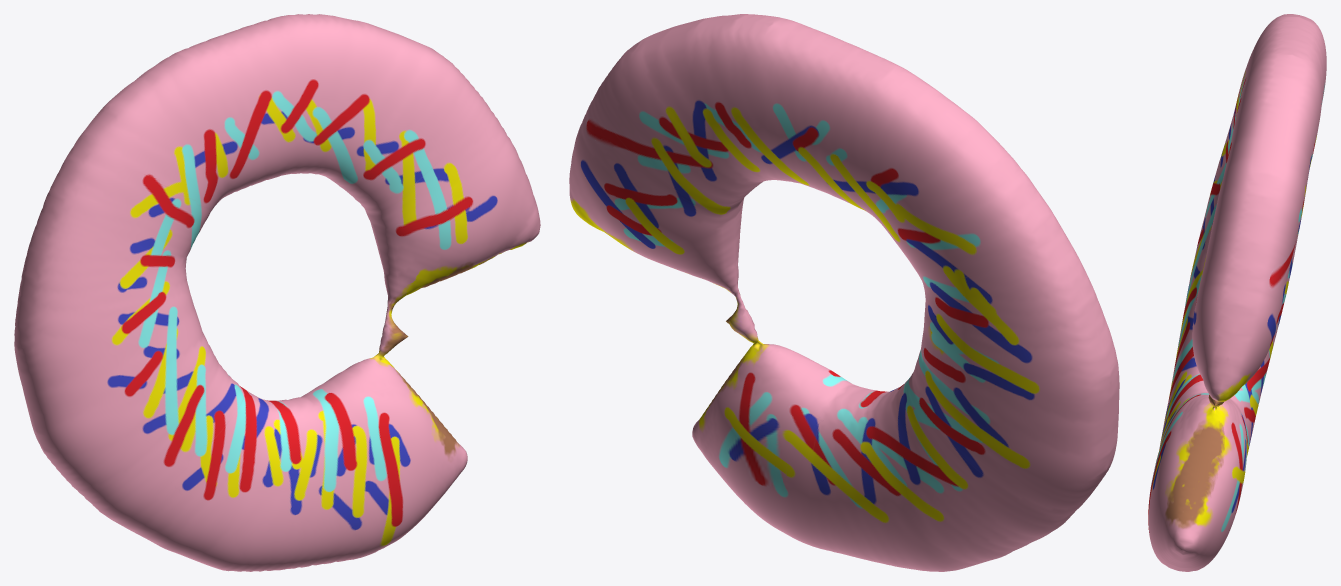
Rendered from doughnut_3d16c309.glb.
3 renders of one model, left to right at view 1: azimuth 30°, elevation 25°; view 2: azimuth 150°, elevation 25°; view 3: azimuth 270°, elevation 25°, orthographic. The views are drawn at different scales.
Parts seen in each view (by area): view 1: Object_5; view 2: Object_5; view 3: Object_5.
Part boxes in pixels (left/top/right/bottom): Object_5: left=14, top=14, right=540, bottom=571; Object_5: left=569, top=14, right=1119, bottom=571; Object_5: left=1148, top=14, right=1326, bottom=571.
Bounding box in the file's own units: 0.5155 × 0.497 × 0.1594.
Materials: 1 (1 with a texture image).
